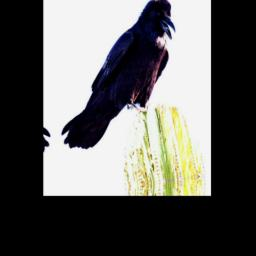Crow: (52, 0, 183, 153)
